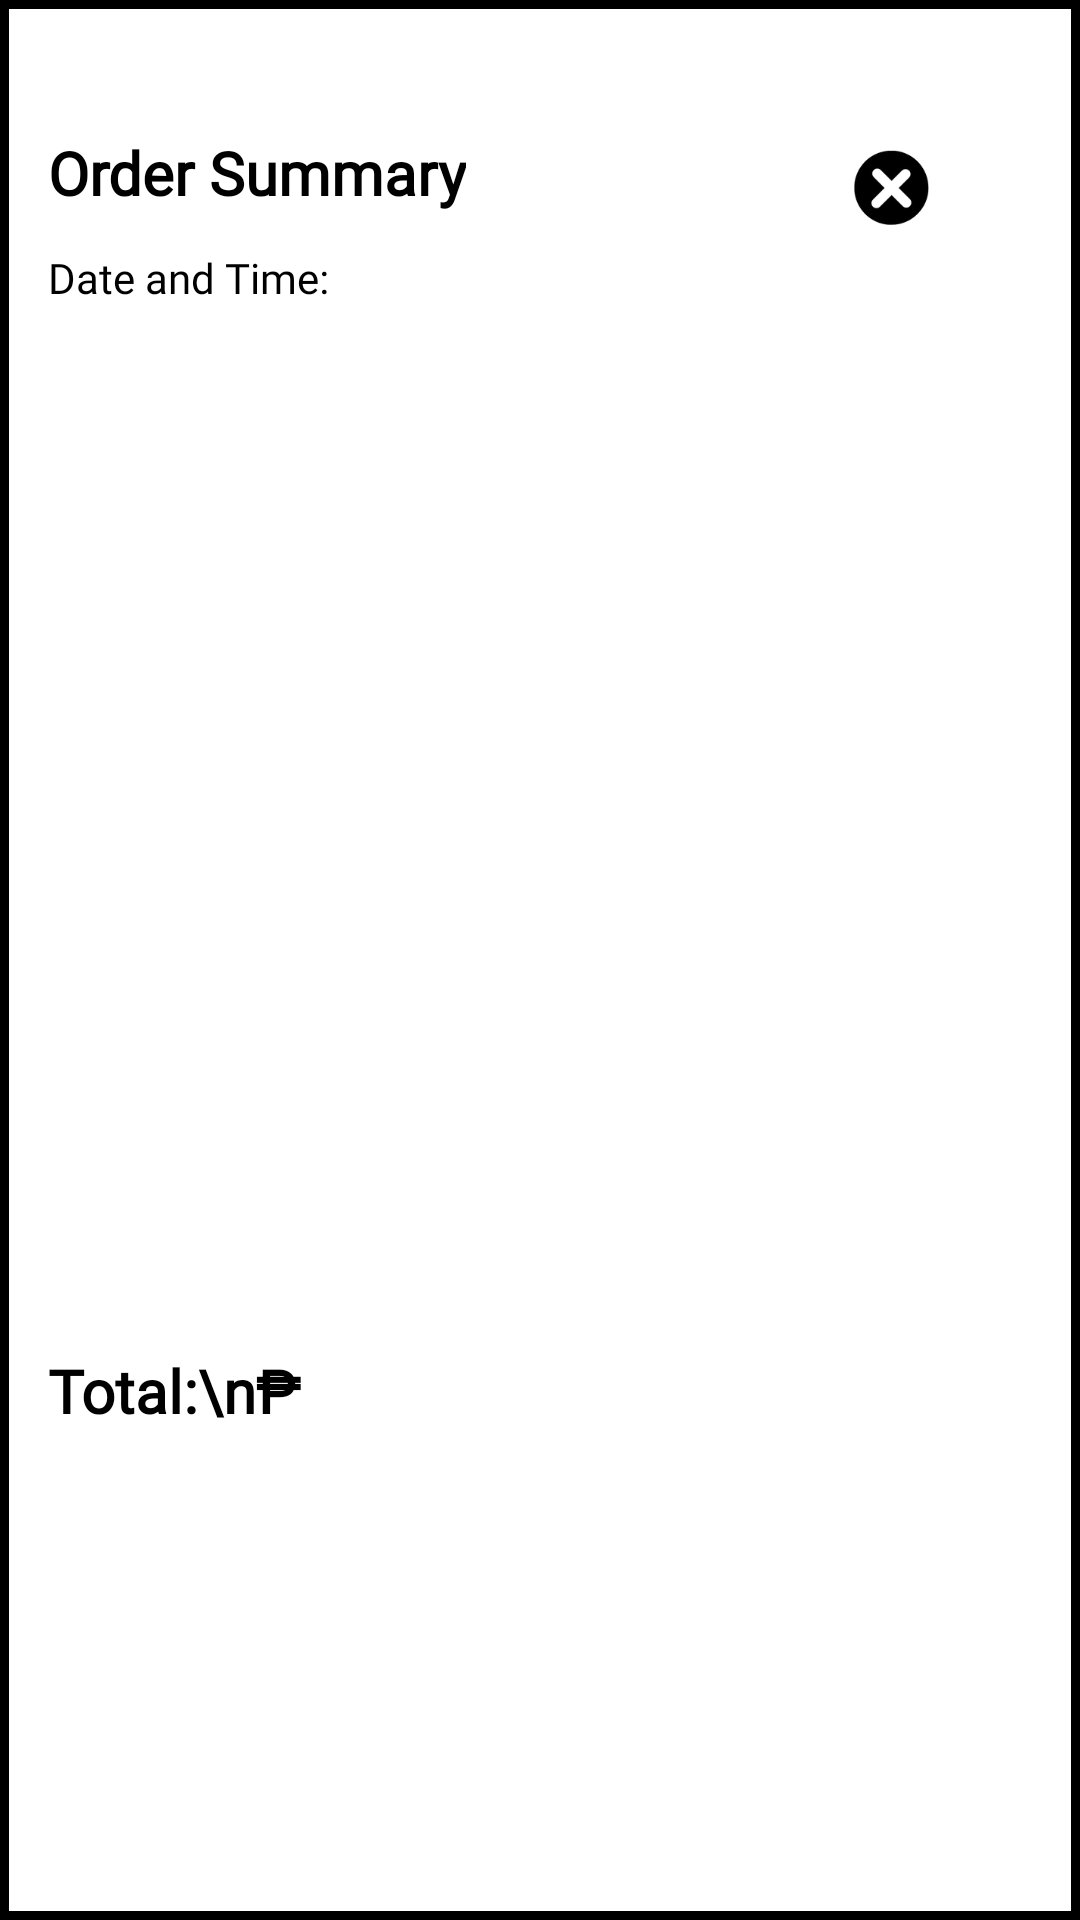

Named icons in this screenshot (1080*1920) and their bounding boxes, (x1, y1, x2, y2):
exitbtn: (854, 150, 929, 225)
